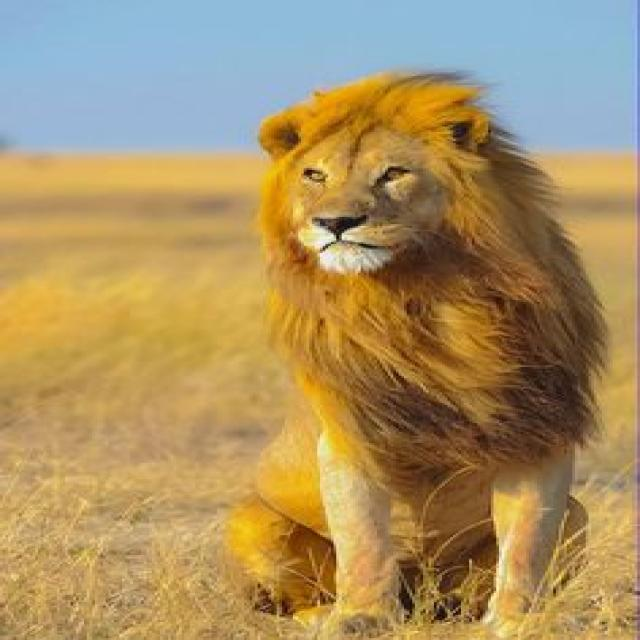lions: (163, 30, 640, 640)
